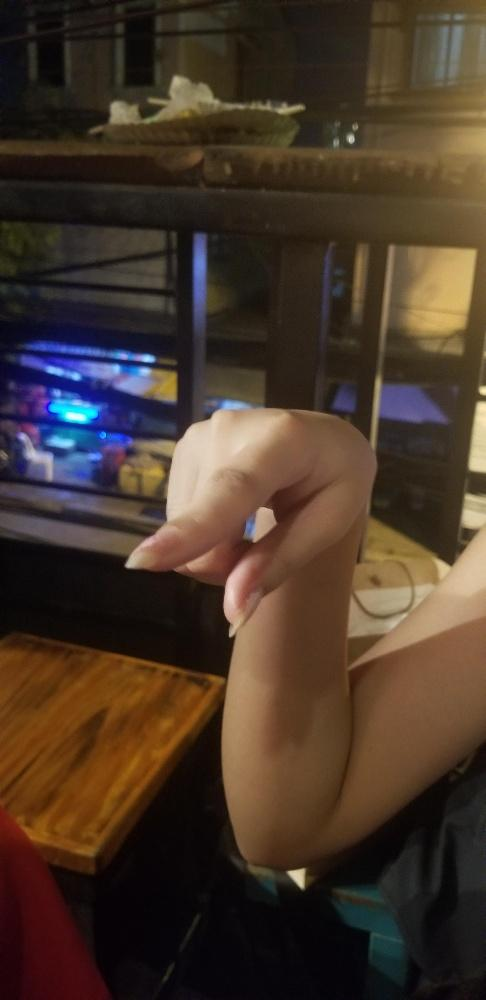z: (124, 398, 379, 641)
